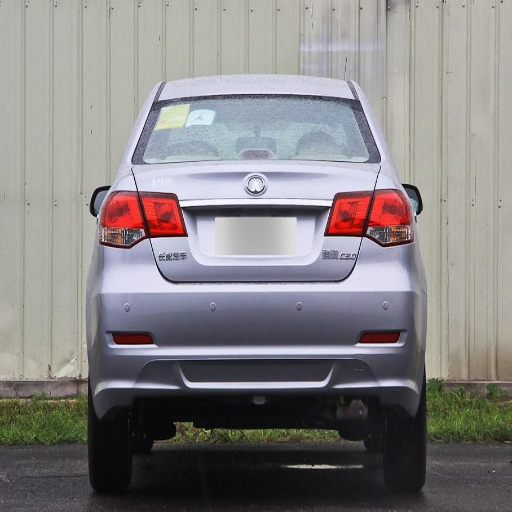back_bumper: (91, 237, 428, 412)
tailgate: (132, 163, 380, 280)
